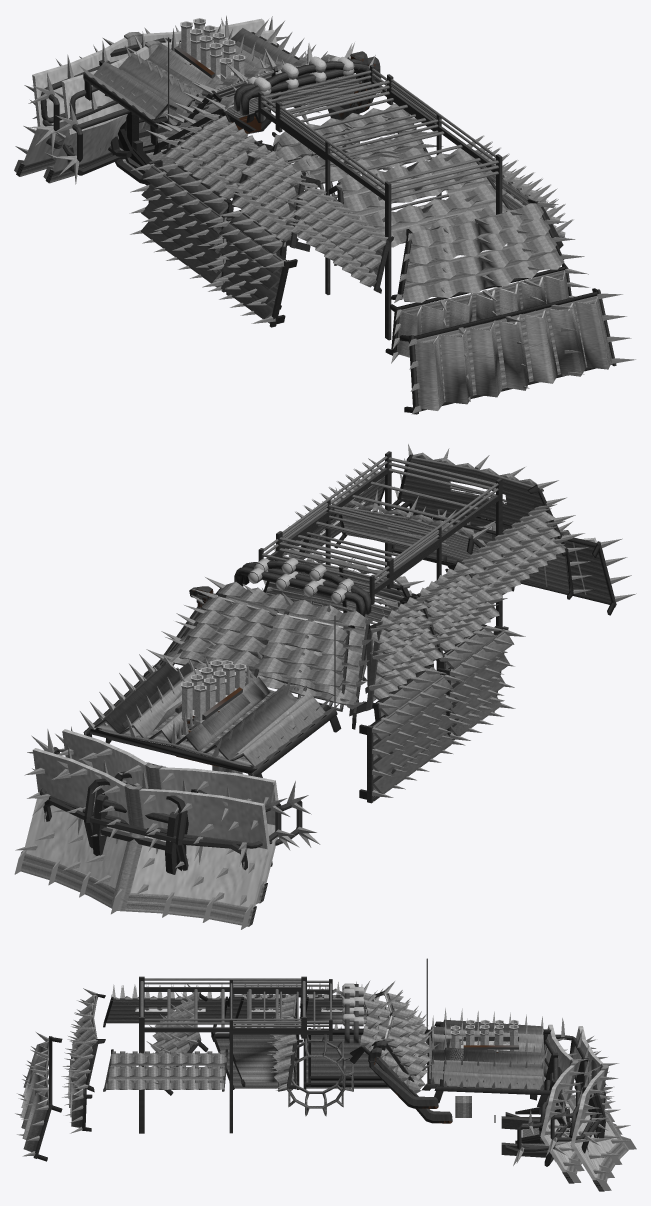
File: PickUpArmor.fbx
The picture shows the model from 3 angles, top to bottom: view 1: azimuth 30°, elevation 25°; view 2: azimuth 150°, elevation 25°; view 3: azimuth 270°, elevation 25°; orthographic projection. The views are drawn at different scales.
Visible parts, largest first — view 1: trunkreinforcedrear, roofrack, windowreinforcedrear.001, windowreinforcedrear, roofrack short, plow.001, hoodreinforcedfront, trunkreinforcedrear.001, plow, doorfrontreinforcedleft, windowreinforcedtruckrear, windowreinforcedrear_vve (+42 smaller); view 2: plow, plow_spiked, windowreinforcedfront.001, roofrack, hoodreinforcedfront, hoodreinforcedfrontscoop, plow.001, doorfrontreinforcedleft, roofrack short, windowreinforcedfront, windowheavyrear.001, windowreinforcedrear_vve (+43 smaller); view 3: hoodreinforcedfront, roofrack, plow, windowreinforcedrear_vve, windowheavyrear_vve, hoodreinforcedfrontscoop, roofrack short, plow.001, trunkreinforcedrear, doorrearheavyleft.001, doorfrontheavyleft.001, windowreinforcedfront.001 (+41 smaller).
Boxes of the visible parts, x1,y1,x2,y2 form: trunkreinforcedrear: (414, 291, 612, 411); roofrack: (275, 74, 502, 340); windowreinforcedrear.001: (402, 203, 564, 302); windowreinforcedrear: (338, 148, 509, 247); roofrack short: (258, 65, 441, 294); plow.001: (43, 29, 276, 183); hoodreinforcedfront: (94, 28, 297, 144); trunkreinforcedrear.001: (396, 266, 568, 357); plow: (14, 18, 265, 176); doorfrontreinforcedleft: (141, 164, 223, 287); windowreinforcedtruckrear: (276, 103, 431, 187); windowreinforcedrear_vve: (288, 150, 565, 287); plow: (14, 748, 270, 929); plow_spiked: (15, 750, 267, 906); windowreinforcedfront.001: (179, 596, 347, 695); roofrack: (276, 451, 502, 626); hoodreinforcedfront: (88, 666, 338, 772); hoodreinforcedfrontscoop: (88, 663, 339, 773); plow.001: (62, 729, 278, 904); doorfrontreinforcedleft: (370, 678, 454, 801); roofrack short: (258, 499, 441, 670); windowreinforcedfront: (163, 582, 370, 706); windowheavyrear.001: (391, 454, 563, 543); windowreinforcedrear_vve: (288, 474, 566, 605); hoodreinforcedfront: (436, 1019, 547, 1102); roofrack: (139, 976, 306, 1133); plow: (569, 1026, 636, 1191); windowreinforcedrear_vve: (106, 996, 226, 1089); windowheavyrear_vve: (103, 996, 227, 1091); hoodreinforcedfrontscoop: (437, 1020, 546, 1102); roofrack short: (229, 979, 332, 1133); plow.001: (517, 1024, 584, 1183); trunkreinforcedrear: (20, 1038, 52, 1152); doorrearheavyleft.001: (229, 1032, 295, 1086); doorfrontheavyleft.001: (308, 1028, 388, 1086); windowreinforcedfront.001: (387, 993, 429, 1080).
Bounding box in the file's own units: 278 × 214 × 751.
